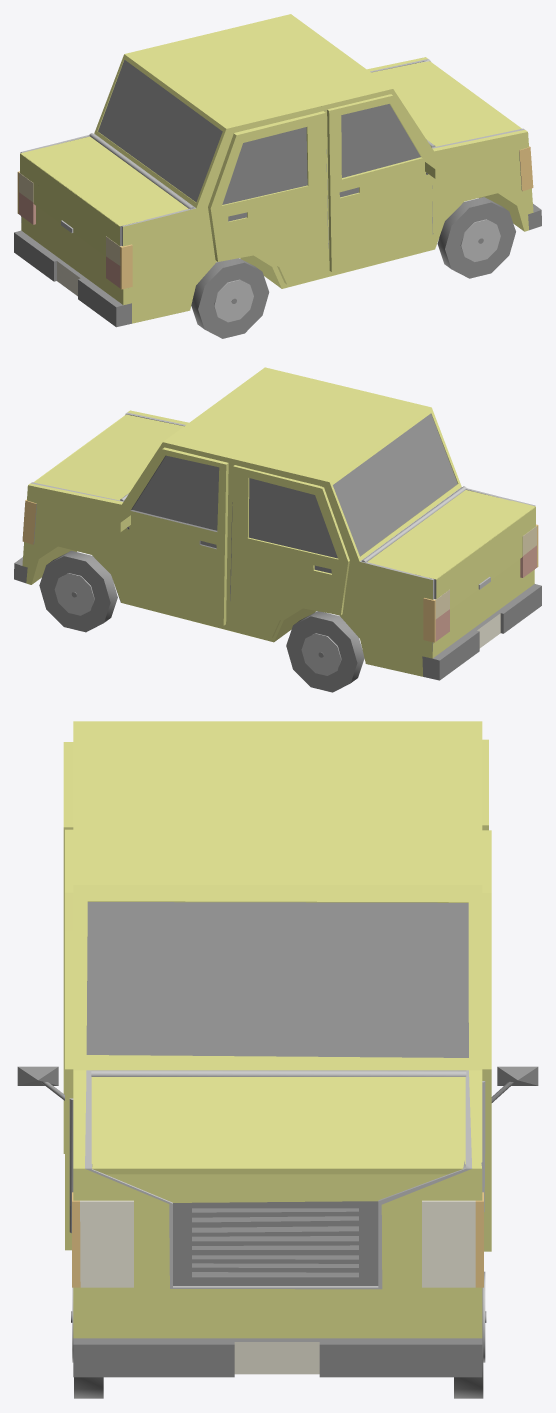
Rendered from kar18.fbx.
3 views of the same model, one above another, from view 1: azimuth 30°, elevation 25°; view 2: azimuth 150°, elevation 25°; view 3: azimuth 270°, elevation 25° (orthographic). The views are drawn at different scales.
Visible parts, largest first — view 1: Cube_2, Cylinder_4, Cylinder, Cylinder_1, Boole, Cylinder_6, Cylinder_9; view 2: Cube_2, Cylinder_10, Cylinder_5, Cylinder_1, Boole, Cylinder_7, Cylinder_8; view 3: Cube_2, Boole, Cylinder_5, Cylinder, Cylinder_4, Cylinder_7, Cylinder_6.
Boxes of the visible parts, x1=… form: Cube_2: x1=14, y1=14, x2=541, y2=327; Cylinder_4: x1=208, y1=111, x2=328, y2=284; Cylinder: x1=327, y1=94, x2=435, y2=271; Cylinder_1: x1=20, y1=133, x2=194, y2=256; Boole: x1=371, y1=61, x2=521, y2=147; Cylinder_6: x1=437, y1=197, x2=515, y2=278; Cylinder_9: x1=191, y1=258, x2=269, y2=338; Cube_2: x1=14, y1=367, x2=541, y2=680; Cylinder_10: x1=230, y1=465, x2=349, y2=638; Cylinder_5: x1=120, y1=447, x2=228, y2=625; Cylinder_1: x1=361, y1=486, x2=535, y2=609; Boole: x1=33, y1=414, x2=183, y2=501; Cylinder_7: x1=39, y1=550, x2=117, y2=632; Cylinder_8: x1=286, y1=611, x2=364, y2=692; Cube_2: x1=72, y1=721, x2=483, y2=1377; Boole: x1=91, y1=1070, x2=466, y2=1285; Cylinder_5: x1=482, y1=830, x2=538, y2=1251; Cylinder: x1=17, y1=829, x2=73, y2=1250; Cylinder_4: x1=63, y1=742, x2=73, y2=1153; Cylinder_7: x1=454, y1=1271, x2=486, y2=1398; Cylinder_6: x1=71, y1=1287, x2=103, y2=1398.
Bounding box in the file's own units: 457 × 215 × 242.
